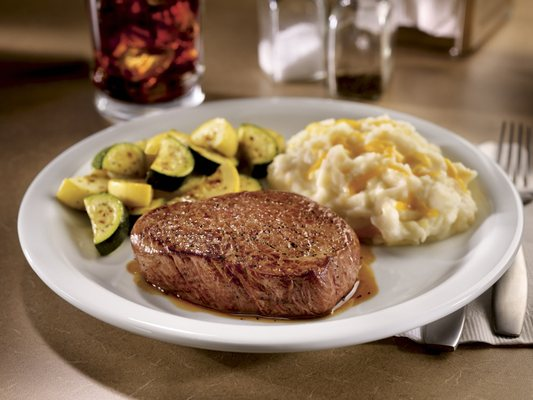burger: (496, 119, 533, 339), (496, 120, 533, 207)
pizza: (85, 0, 207, 122)
soup: (128, 189, 363, 317)
